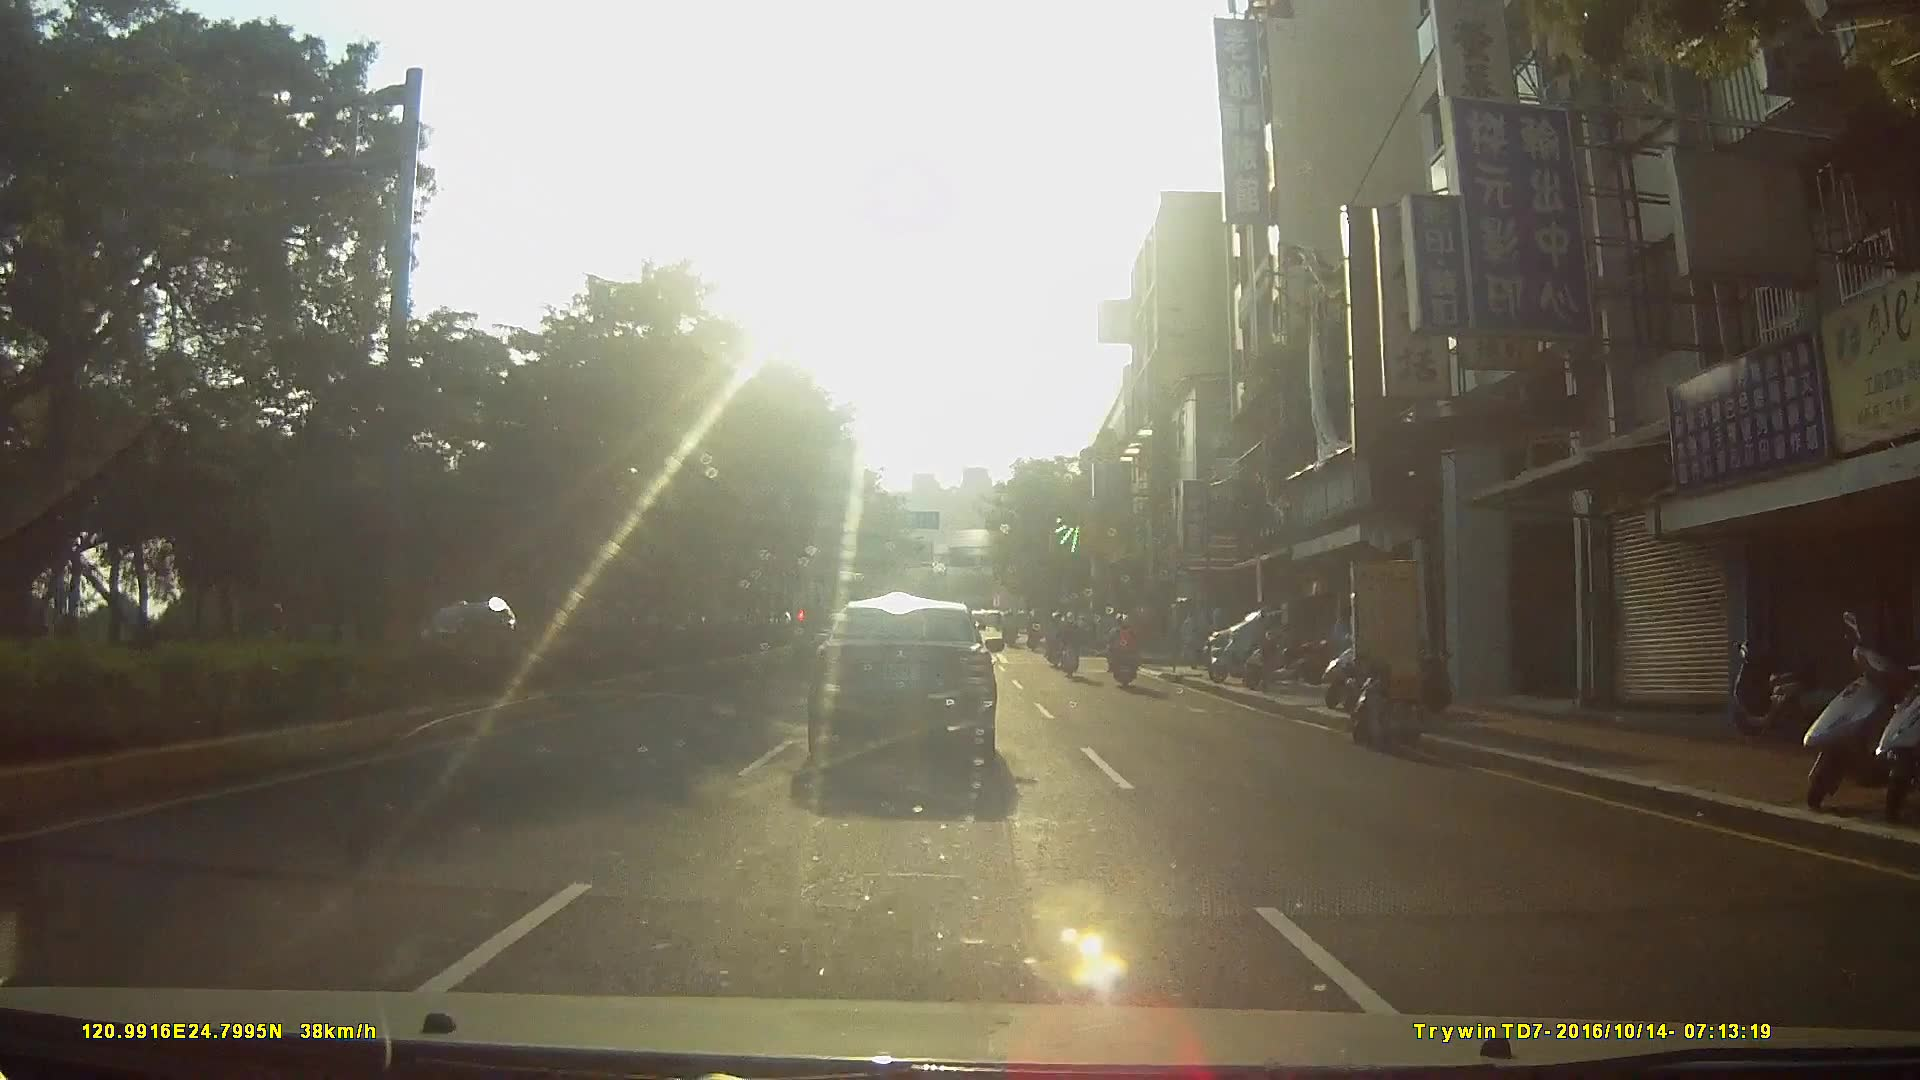rider: (1106, 615, 1139, 691), (1057, 612, 1083, 679), (1044, 612, 1067, 671)
vehicle: (804, 597, 1020, 788)
